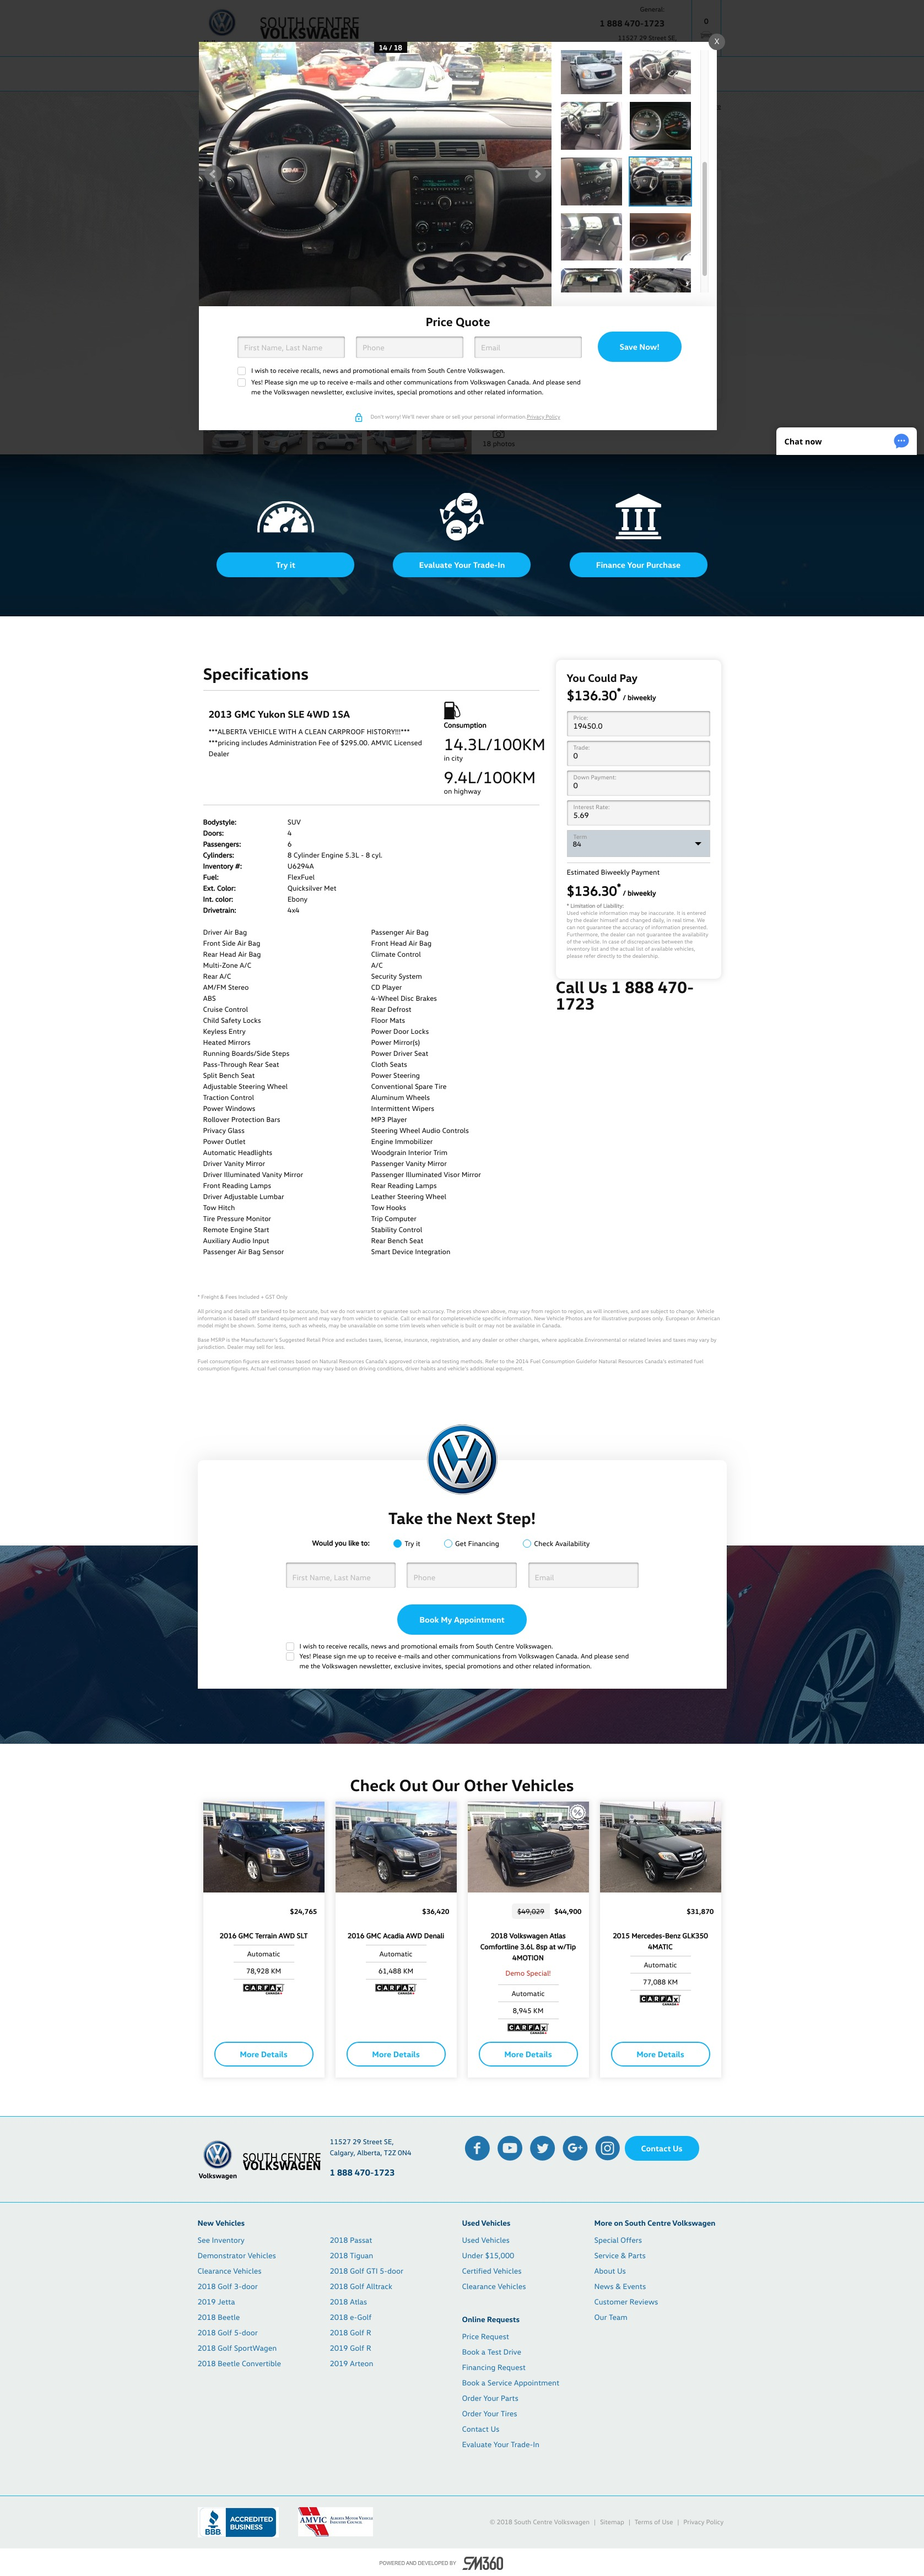car: (699, 283, 710, 296)
